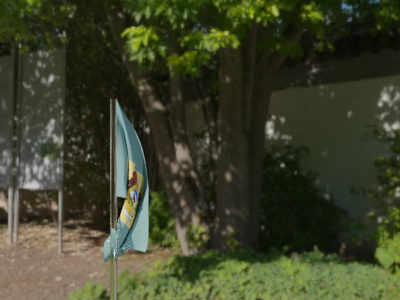Delaware flag: (104, 97, 150, 261)
